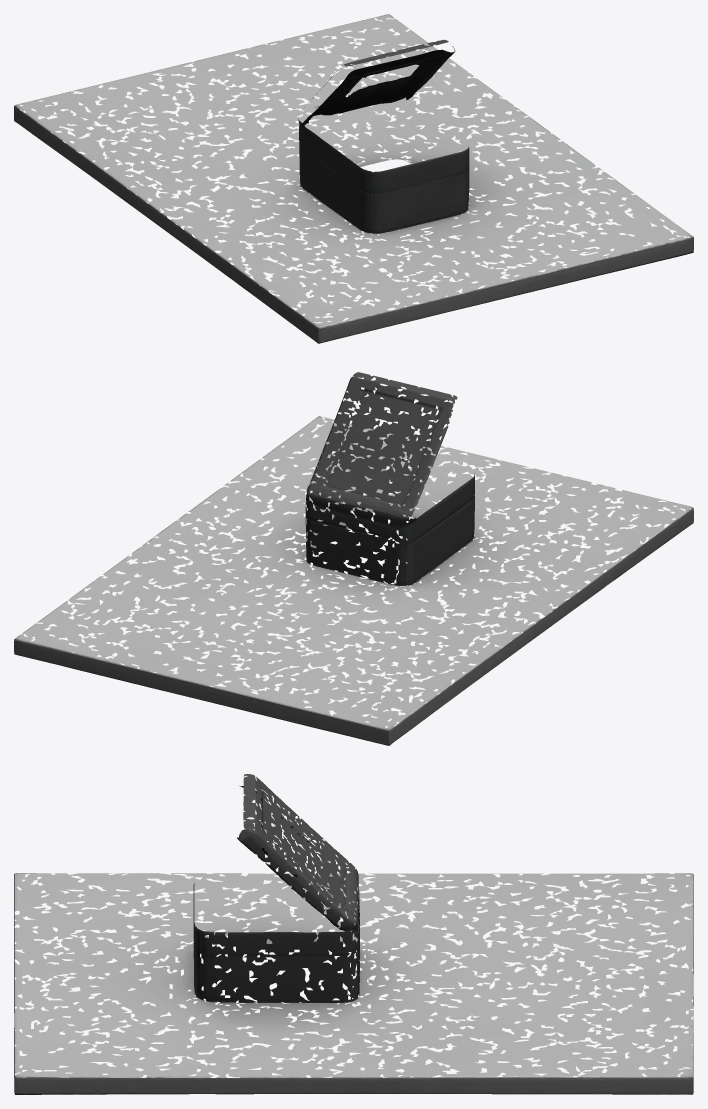
The picture shows the model from 3 angles, top to bottom: view 1: azimuth 30°, elevation 25°; view 2: azimuth 150°, elevation 25°; view 3: azimuth 270°, elevation 25°; orthographic projection. The views are drawn at different scales.
Parts seen in each view (by area): view 1: geometry_0; view 2: geometry_0; view 3: geometry_0.
Boxes of the visible parts, x1,y1,x2,y2 form: geometry_0: [14, 14, 693, 343]; geometry_0: [14, 372, 693, 745]; geometry_0: [14, 774, 693, 1094].
Bounding box in the file's own units: 0.7115 × 0.3084 × 1.
Materials: 1 (1 with a texture image).
